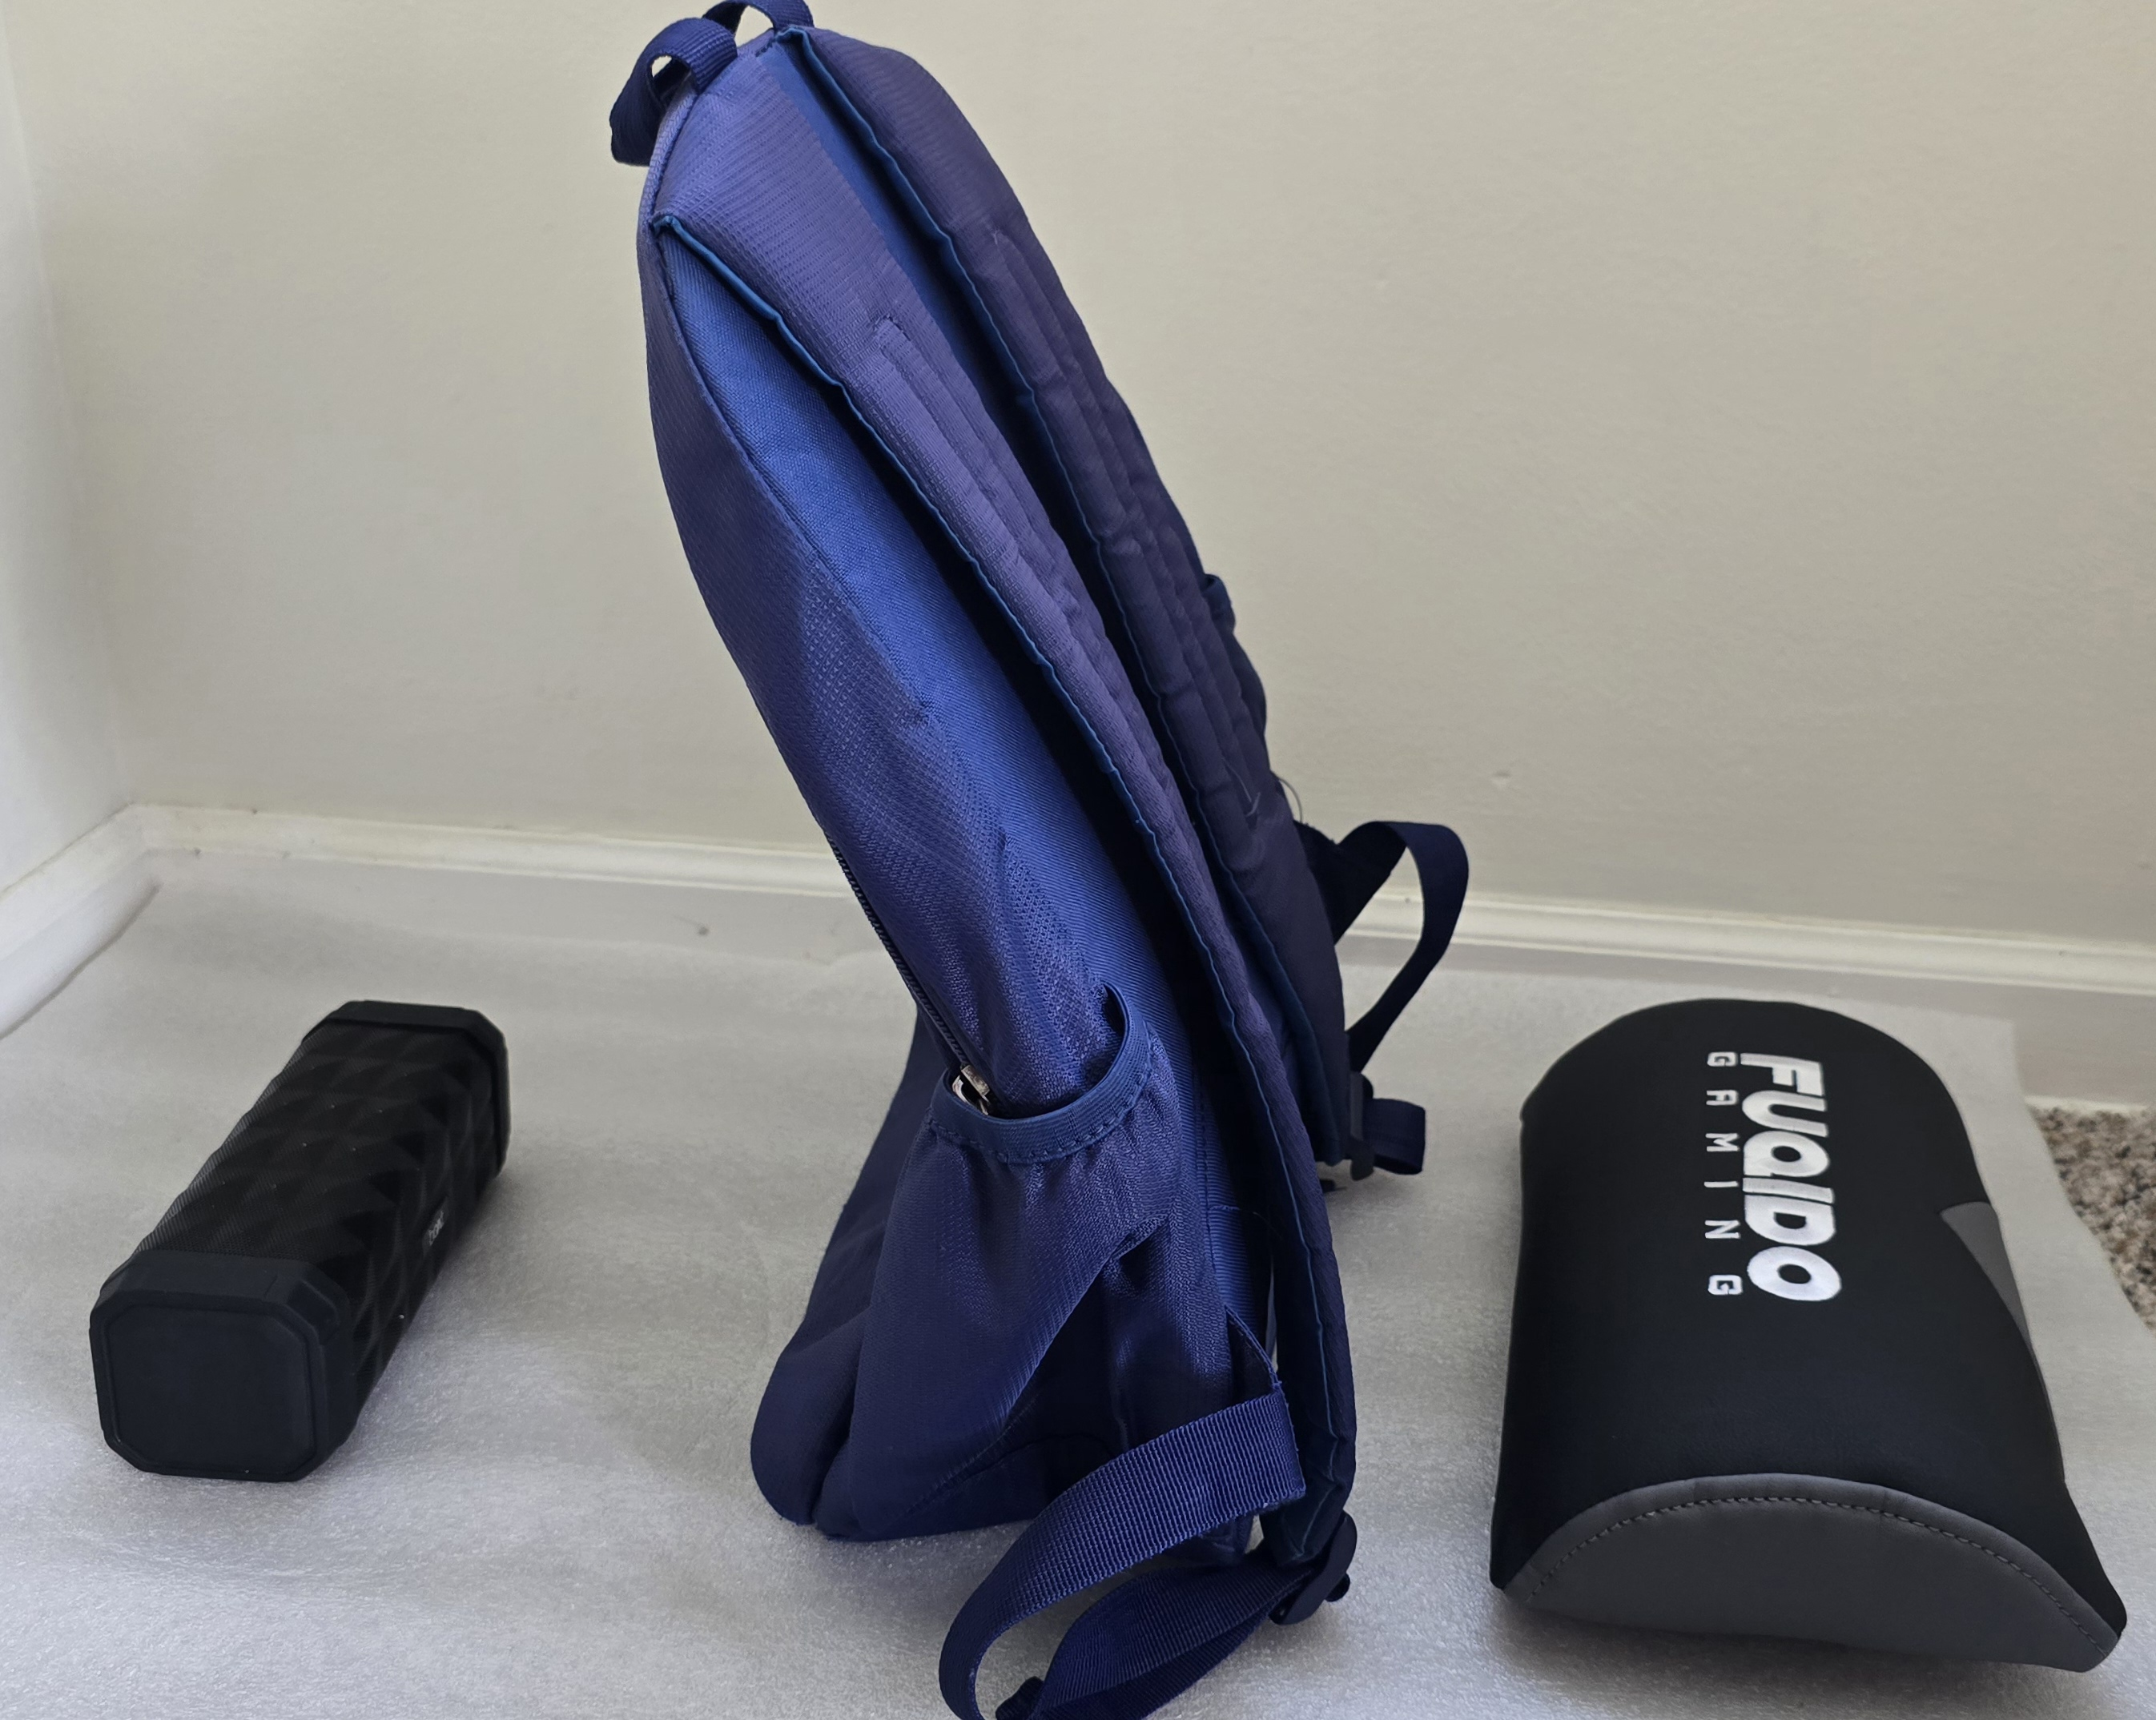bag: (495, 0, 1434, 1692)
